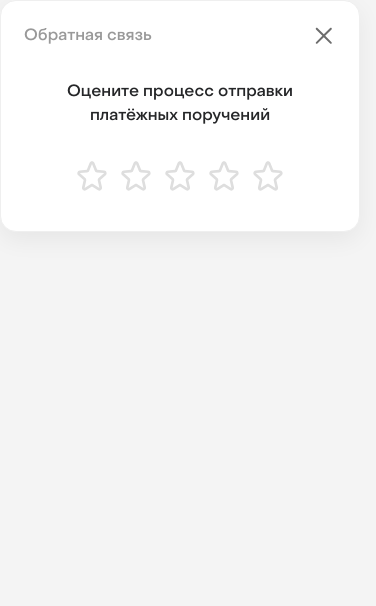
Test case: Nps: чипы › null среди подписей не роняет карточку
The image size is (376, 606).
Click the radio button named "3 из 5, Нормально" at (180, 176), box [164,160,196,192]
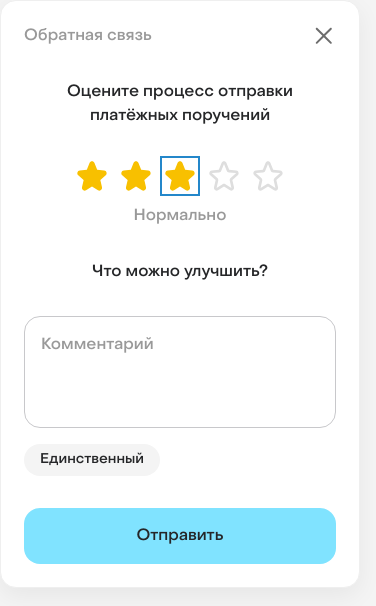
Expected: the button "Единственный" is shown, [24,444,160,476]
